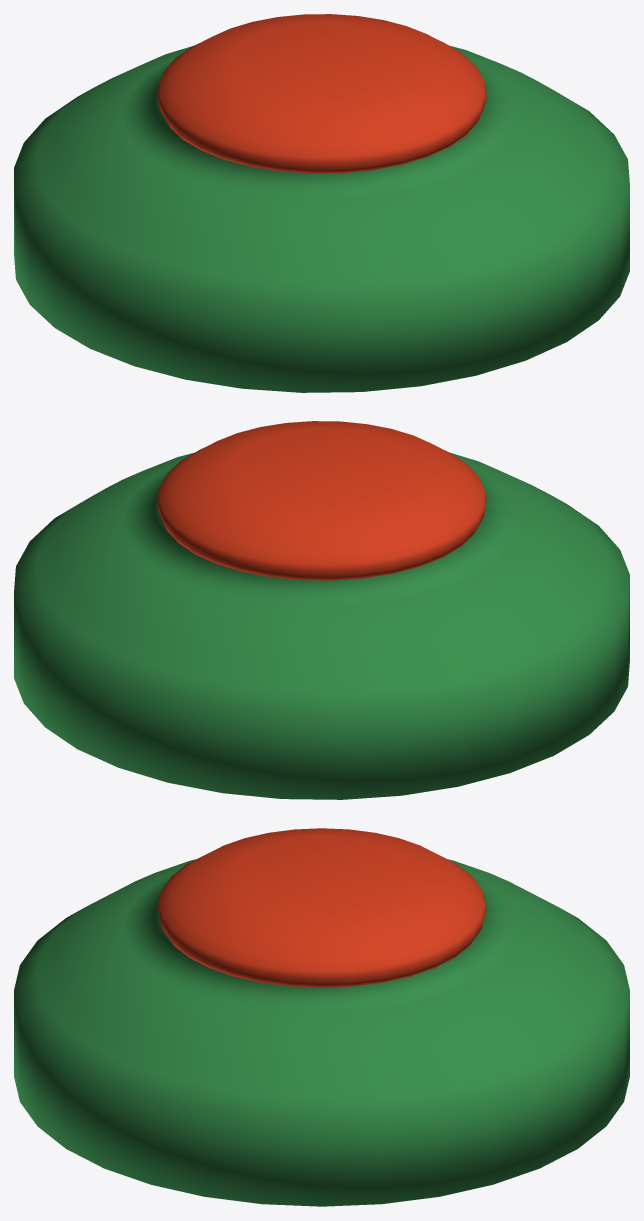
File: mine.fbx
3 views of the same model, one above another, from view 1: azimuth 30°, elevation 25°; view 2: azimuth 150°, elevation 25°; view 3: azimuth 270°, elevation 25° (orthographic).
Parts seen in each view (by area): view 1: Cylinder; view 2: Cylinder; view 3: Cylinder.
Part boxes in pixels (left/top/right/bottom): Cylinder: left=14, top=14, right=629, bottom=392; Cylinder: left=14, top=421, right=629, bottom=799; Cylinder: left=14, top=828, right=629, bottom=1206.
Size of the model in its own units: 2.37 by 0.8629 by 2.37.
